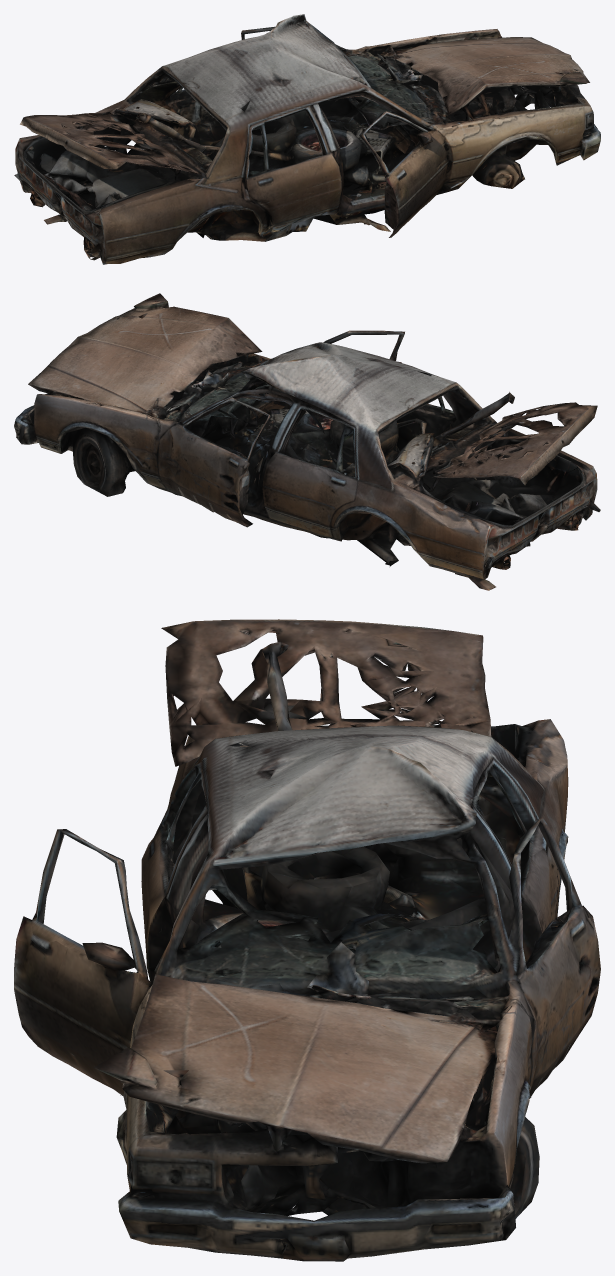
Rendered from destroyed_car.glb.
The picture shows the model from 3 angles, top to bottom: view 1: azimuth 30°, elevation 25°; view 2: azimuth 150°, elevation 25°; view 3: azimuth 270°, elevation 25°; orthographic projection. The views are drawn at different scales.
Visible parts, largest first — view 1: Box001; view 2: Box001; view 3: Box001.
Boxes of the visible parts, box(x1,y1,x2,y2) form: Box001: box(14, 14, 600, 264); Box001: box(14, 293, 600, 590); Box001: box(14, 619, 600, 1261).
Size of the model in its own units: 3.15 by 0.9577 by 1.64.
Materials: 1 (1 with a texture image).
